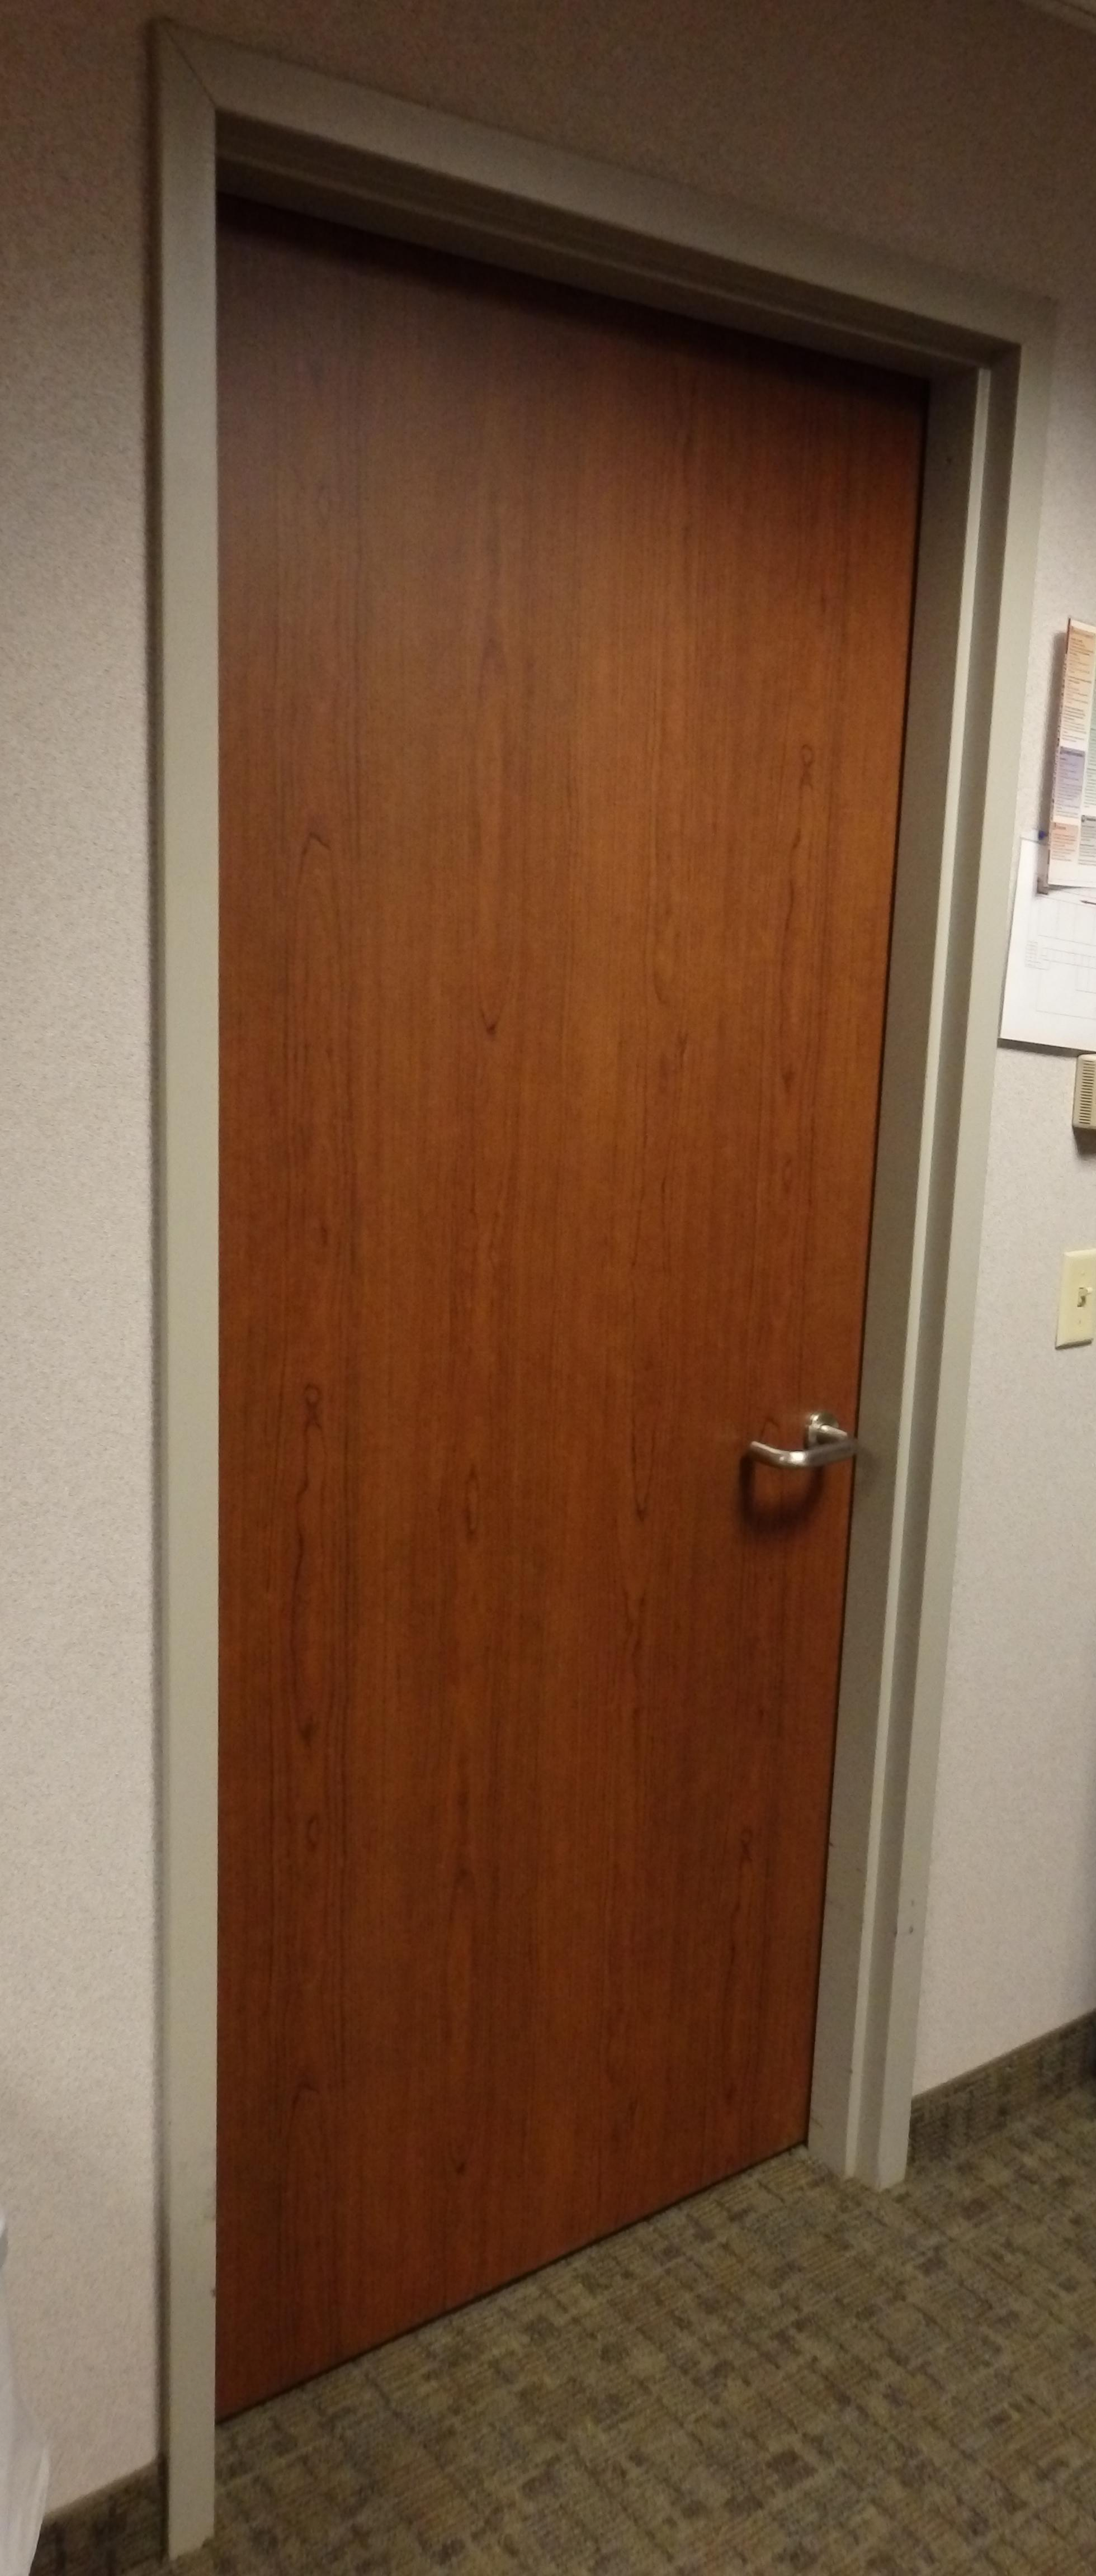door: (87, 219, 976, 2367)
